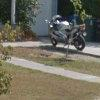Motorcycle: (38, 9, 91, 51)
